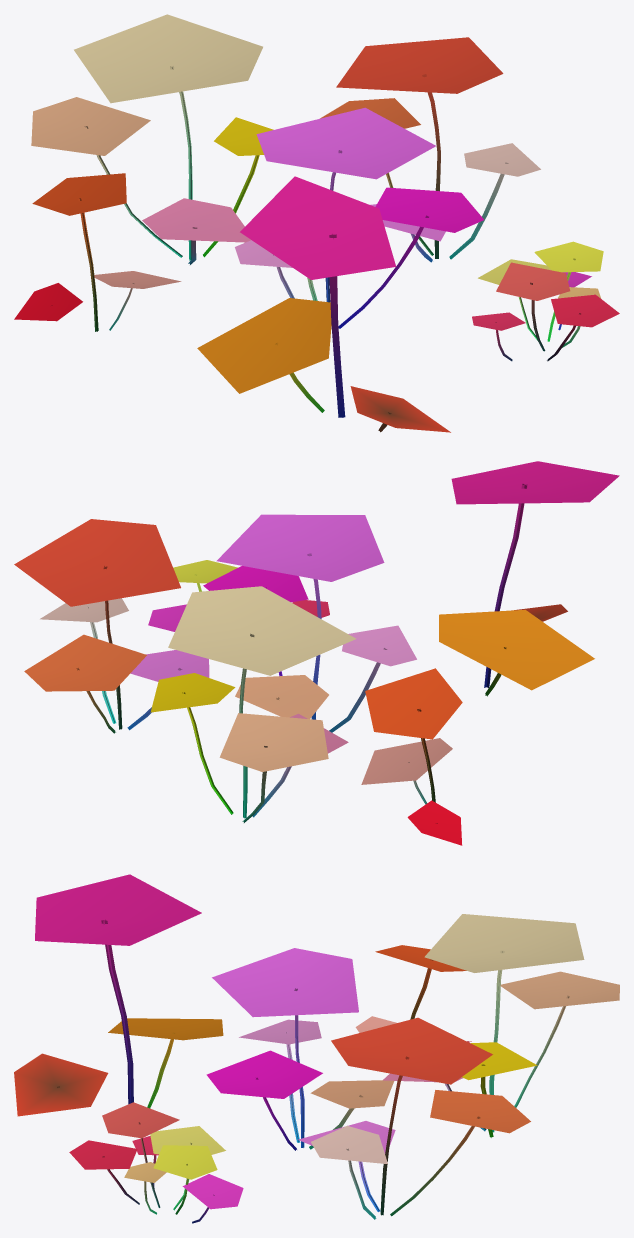
File: Wood_Sorrel_wcwmchzja_Mid_wcwmchzja_VarH_LOD0.fbx
The picture shows the model from 3 angles, top to bottom: view 1: azimuth 30°, elevation 25°; view 2: azimuth 150°, elevation 25°; view 3: azimuth 270°, elevation 25°; orthographic projection. The views are drawn at different scales.
Parts seen in each view (by area): view 1: _6s9w_VarH_LOD1; view 2: _6s9w_VarH_LOD1; view 3: _6s9w_VarH_LOD1.
Part boxes in pixels (x1=…): _6s9w_VarH_LOD1: x1=14, y1=14, x2=619, y2=432; _6s9w_VarH_LOD1: x1=14, y1=461, x2=619, y2=845; _6s9w_VarH_LOD1: x1=14, y1=874, x2=619, y2=1223.
Size of the model in its own units: 15.98 by 7.1 by 19.86.
